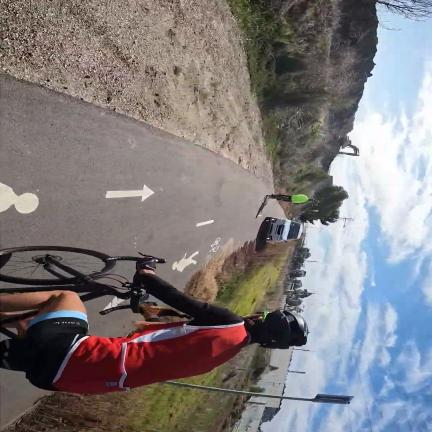Bike_Lane: (0, 76, 271, 288)
